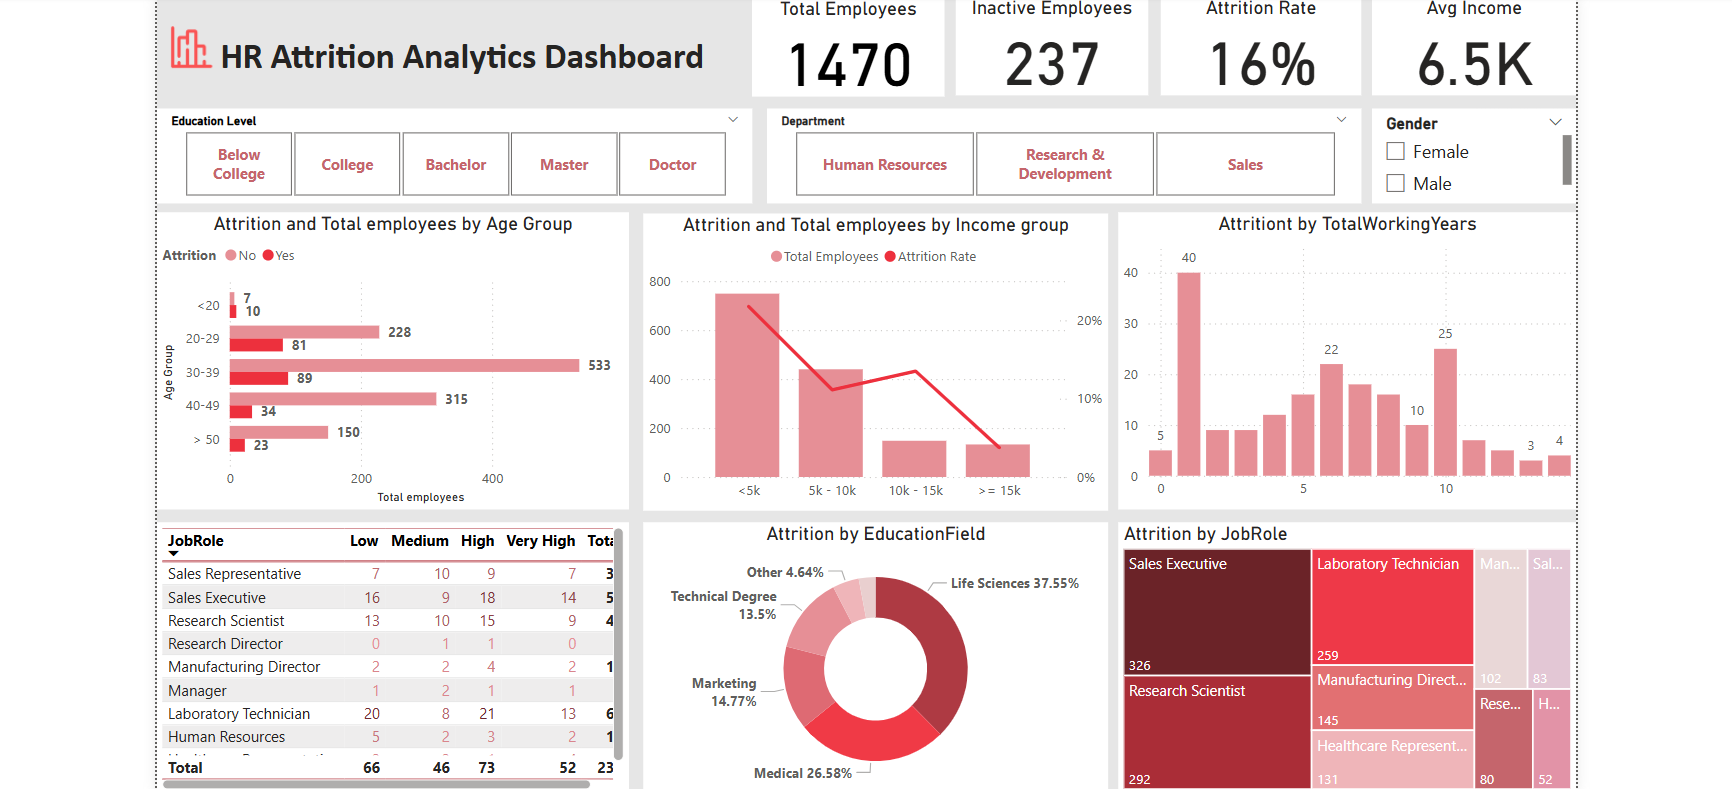

The dashboard page shown, as its layout file describes it:
{"tool":"powerbi","page":{"name":"Overview","canvas":[1280,720],"ordinal":0},"visuals":[{"type":"card","title":"Total Employees","fields":{"Values":["Sum(HR Employee Attrition Data.EmployeeCount)"]},"box":[536.8,1.2,173.6,89.3],"z":0},{"type":"card","title":"Inactive Employees","fields":{"Values":["Sum(HR Employee Attrition Data.AttritionCount)"]},"box":[720.2,0,173.6,89.3],"z":1000},{"type":"card","title":"Attrition Rate","fields":{"Values":["HR Employee Attrition Data.Attrition Rate"]},"box":[904.9,0,181,89.3],"z":2000},{"type":"slicer","fields":{"Values":["HR Employee Attrition Data.Gender"]},"box":[1095.7,101.5,184.6,85.6],"z":3000},{"type":"clusteredBarChart","title":"Attrition and Total employees  by Age Group","fields":{"Y":["Sum(HR Employee Attrition Data.EmployeeCount)"],"Category":["Age Group.Age Group"],"Series":["HR Employee Attrition Data.Attrition"]},"box":[0,194.4,425.5,267.8],"z":4000},{"type":"donutChart","title":" Attrition by EducationField","fields":{"Category":["HR Employee Attrition Data.EducationField"],"Y":["Sum(HR Employee Attrition Data.AttritionCount)"]},"box":[439,474.5,419.4,245.8],"z":5000},{"type":"pivotTable","fields":{"Rows":["HR Employee Attrition Data.JobRole"],"Columns":["Job Satisfaction.JobSatisfaction Level"],"Values":["Sum(HR Employee Attrition Data.AttritionCount)"]},"box":[0,474.5,425.5,245.8],"z":6000},{"type":"lineClusteredColumnComboChart","title":"Attrition and Total employees by Income group","fields":{"Y":["Sum(HR Employee Attrition Data.EmployeeCount)"],"Y2":["HR Employee Attrition Data.Attrition Rate"],"Category":["Income Group.Income Group"]},"box":[439,195.7,419.4,267.8],"z":7000},{"type":"clusteredColumnChart","title":" Attritiont by TotalWorkingYears","fields":{"Category":["HR Employee Attrition Data.TotalWorkingYears"],"Y":["Sum(HR Employee Attrition Data.AttritionCount)"]},"box":[867,194.4,413.3,267.8],"z":8000},{"type":"treemap","title":" Attrition by JobRole","fields":{"Group":["HR Employee Attrition Data.JobRole"],"Values":["CountNonNull(HR Employee Attrition Data.Attrition)"]},"box":[867,474.5,413.3,245.8],"z":9000},{"type":"card","title":"Avg Income","fields":{"Values":["Avg(HR Employee Attrition Data.MonthlyIncome)"]},"box":[1095.7,0,184.6,89.3],"z":10000},{"type":"textbox","box":[0,29.3,550.3,59.9],"z":11000},{"type":"slicer","fields":{"Values":["Education.Education Level"]},"box":[0,101.5,536.8,85.6],"z":12000},{"type":"image","box":[0,18.3,61.1,55],"z":13000},{"type":"slicer","fields":{"Values":["HR Employee Attrition Data.Department"]},"box":[550.3,101.5,535.6,85.6],"z":14000}]}

Visuals, with their boxes on the page's 1280x720 design canvas (x1, y1, x2, y2). These are canvas units, not pixel positions in the 1732x789 screenshot, which may show the page scaled, cropped or inside an application window:
"Total Employees" card: 537/1/710/90
"Inactive Employees" card: 720/0/894/89
"Attrition Rate" card: 905/0/1086/89
slicer - HR Employee Attrition Data.Gender: 1096/102/1280/187
"Attrition and Total employees  by Age Group" clusteredBarChart: 0/194/426/462
" Attrition by EducationField" donutChart: 439/474/858/720
pivotTable - HR Employee Attrition Data.JobRole x Job Satisfaction.JobSatisfaction Level: 0/474/426/720
"Attrition and Total employees by Income group" lineClusteredColumnComboChart: 439/196/858/464
" Attritiont by TotalWorkingYears" clusteredColumnChart: 867/194/1280/462
" Attrition by JobRole" treemap: 867/474/1280/720
"Avg Income" card: 1096/0/1280/89
textbox: 0/29/550/89
slicer - Education.Education Level: 0/102/537/187
image: 0/18/61/73
slicer - HR Employee Attrition Data.Department: 550/102/1086/187
